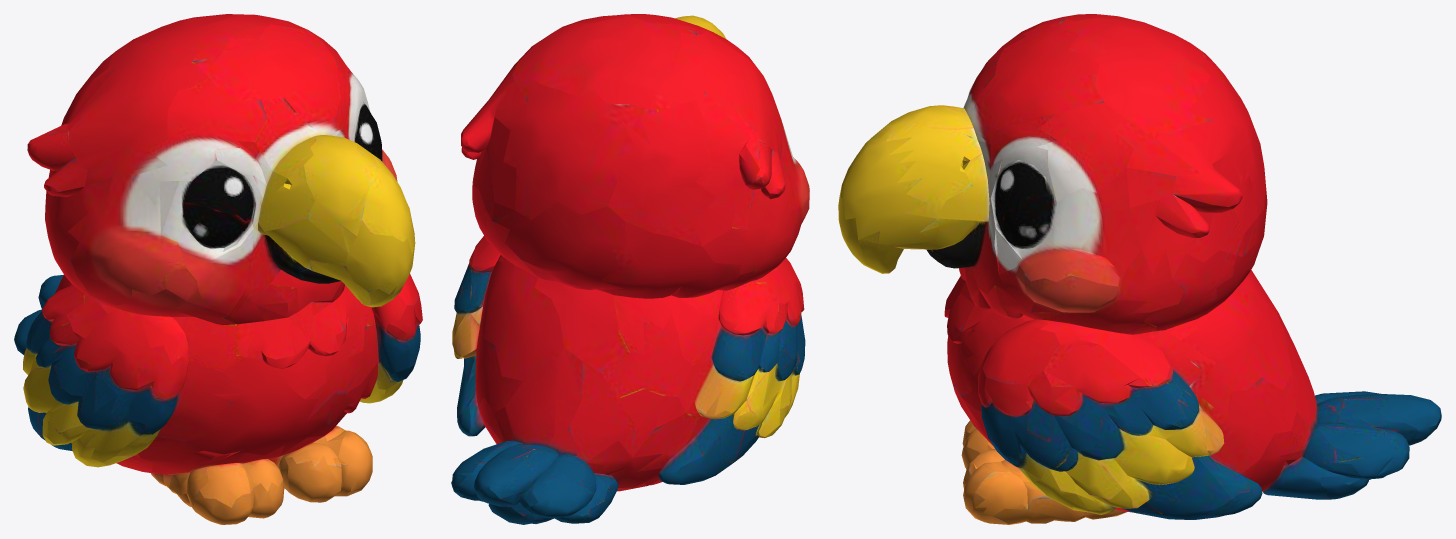
The model's file is oe-papegoeje.glb.
3 views of the same model, side by side, from view 1: azimuth 30°, elevation 25°; view 2: azimuth 150°, elevation 25°; view 3: azimuth 270°, elevation 25° (orthographic). The views are drawn at different scales.
Bounding box in the file's own units: 1.26 × 1.56 × 1.9.
Materials: 1 (1 with a texture image).
